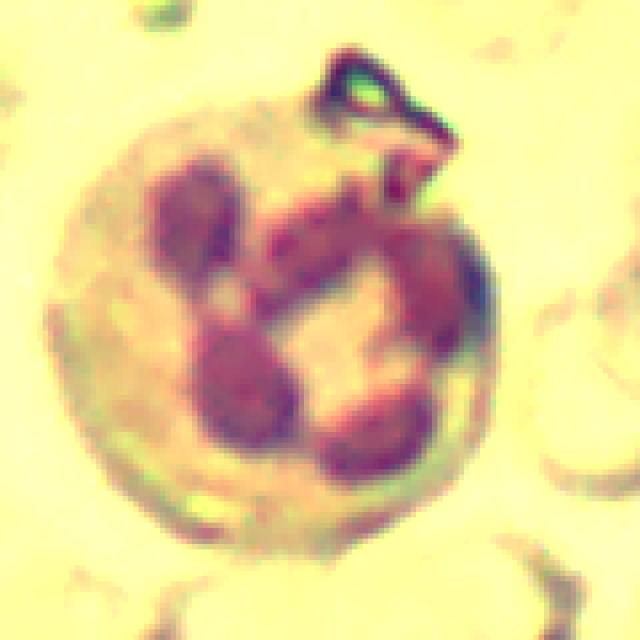WBC: (37, 37, 523, 576)
